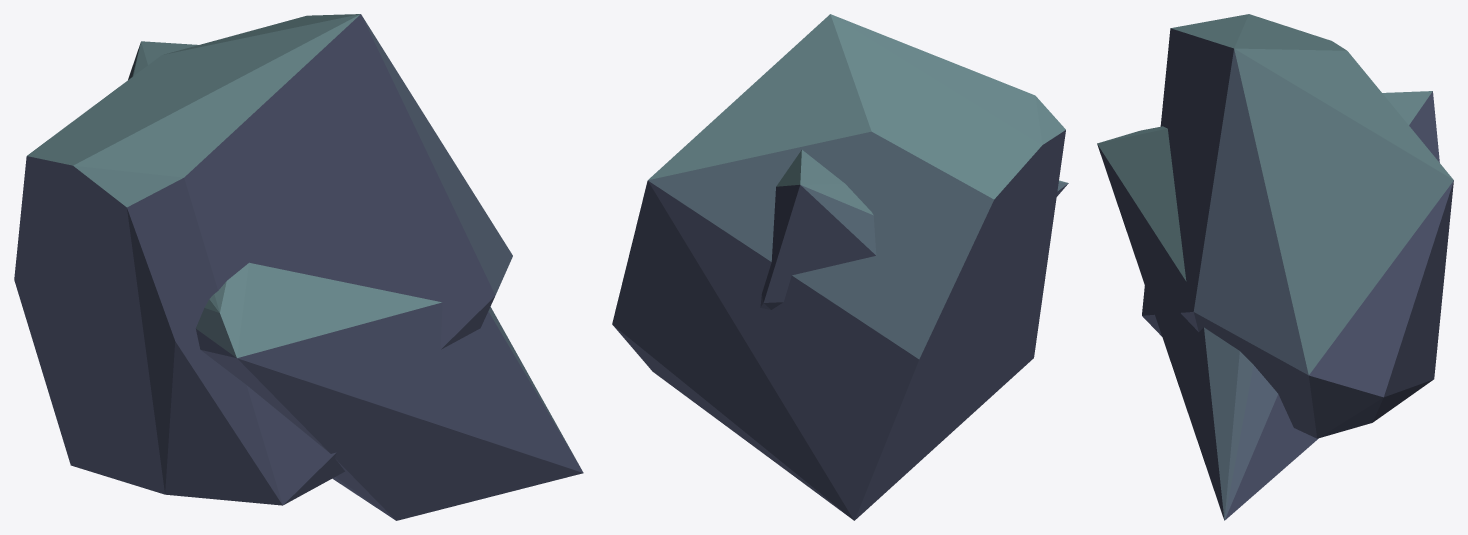
Rendered from env_rock_facet_a.glb.
3 views of the same model, side by side, from view 1: azimuth 30°, elevation 25°; view 2: azimuth 150°, elevation 25°; view 3: azimuth 270°, elevation 25° (orthographic). The views are drawn at different scales.
Parts seen in each view (by area): view 1: lod0__rock_a, lod1__rock_a; view 2: lod0__rock_a, lod1__rock_a; view 3: lod0__rock_a, lod1__rock_a.
Boxes of the visible parts, x1=… form: lod0__rock_a: x1=14, y1=14, x2=512, y2=505; lod1__rock_a: x1=128, y1=41, x2=583, y2=520; lod0__rock_a: x1=612, y1=14, x2=1065, y2=520; lod1__rock_a: x1=760, y1=150, x2=1068, y2=309; lod0__rock_a: x1=1142, y1=14, x2=1453, y2=438; lod1__rock_a: x1=1097, y1=91, x2=1439, y2=520.
Size of the model in its own units: 1.89 by 1.85 by 1.53.
